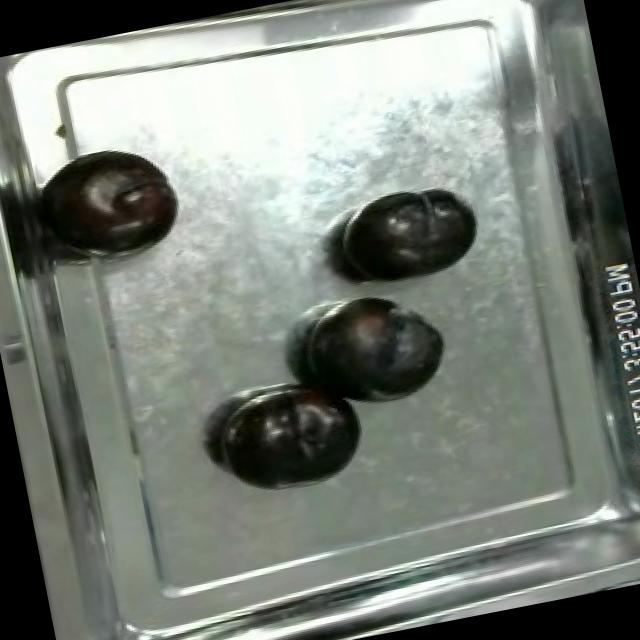Fruit: (286, 280, 460, 420), (209, 372, 378, 504), (36, 135, 190, 267), (328, 176, 490, 298)
